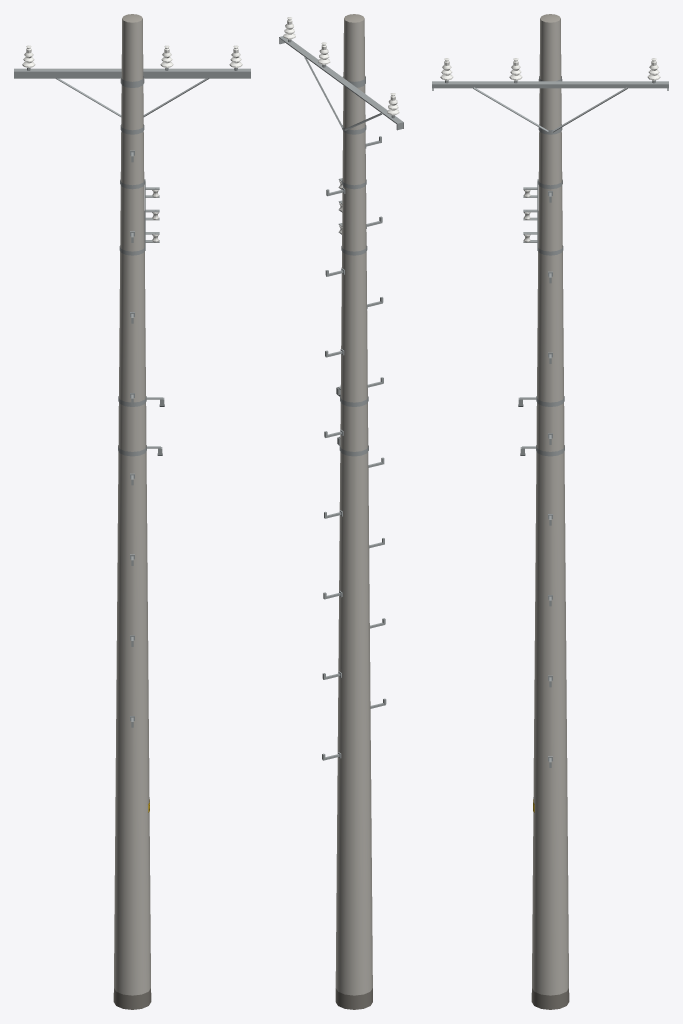
The model's file is SC_Util_Pole_Concrete_Plain.gltf.
3 views of the same model, side by side, from view 1: azimuth 90°, elevation 25°; view 2: azimuth 210°, elevation 25°; view 3: azimuth 270°, elevation 25° (orthographic).
Parts seen in each view (by area): view 1: SC_Util_Pole_Concrete_Plain; view 2: SC_Util_Pole_Concrete_Plain; view 3: SC_Util_Pole_Concrete_Plain.
Part boxes in pixels (x1,y1,x2,y2): SC_Util_Pole_Concrete_Plain: (14,14,250,1009); SC_Util_Pole_Concrete_Plain: (279,14,403,1009); SC_Util_Pole_Concrete_Plain: (432,14,668,1009).
Bounding box in the file's own units: 0.7372 × 11.02 × 2.4.
2 materials, 2 textured.
